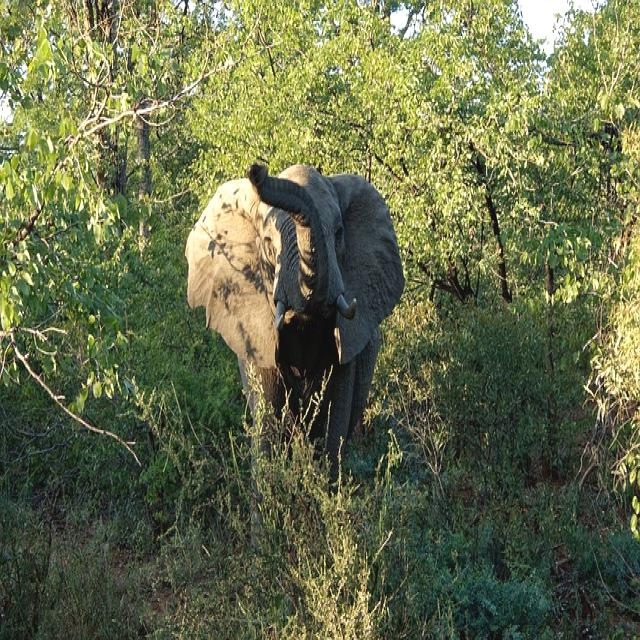FIL: (185, 156, 406, 553)
